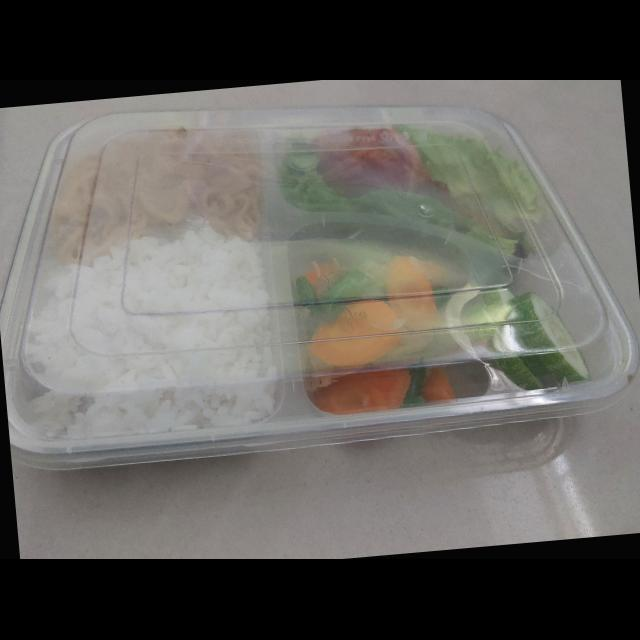bento: (0, 80, 640, 492)
